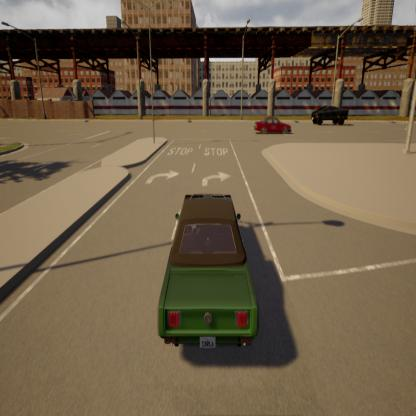Cars: (146, 176, 265, 360), (311, 96, 357, 130), (250, 112, 302, 136)
